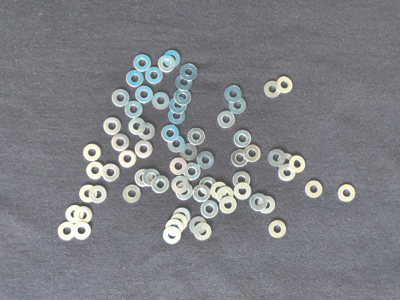circle: (303, 179, 324, 200), (338, 183, 358, 204), (56, 222, 77, 242), (200, 199, 220, 219), (89, 184, 109, 204), (72, 221, 92, 241), (187, 126, 206, 147), (79, 182, 98, 203), (65, 204, 84, 225), (150, 93, 172, 111), (242, 144, 262, 163), (193, 223, 213, 242), (111, 88, 130, 108), (125, 99, 144, 119), (104, 115, 123, 135), (111, 132, 130, 152), (118, 149, 137, 169), (86, 162, 106, 181), (276, 153, 297, 171), (224, 85, 243, 104), (169, 157, 188, 176), (175, 182, 194, 201), (167, 135, 186, 154), (161, 124, 180, 143), (174, 88, 193, 107), (123, 184, 142, 203), (157, 55, 176, 74), (163, 49, 182, 68), (135, 140, 154, 159), (84, 143, 103, 162), (259, 195, 277, 215), (167, 107, 187, 125), (175, 74, 195, 92), (180, 63, 200, 81), (134, 53, 152, 73), (128, 117, 146, 137), (169, 97, 190, 114), (234, 129, 252, 148), (231, 149, 249, 168), (269, 220, 287, 239), (234, 183, 252, 202), (190, 216, 209, 234), (183, 163, 202, 181), (171, 176, 190, 194), (163, 227, 182, 245), (165, 219, 184, 237), (134, 169, 152, 188), (135, 86, 154, 104), (126, 70, 144, 89), (145, 66, 163, 85), (102, 163, 120, 182), (268, 148, 285, 168), (169, 214, 189, 231), (74, 206, 94, 223), (229, 97, 247, 115), (250, 193, 268, 211), (233, 171, 251, 189), (219, 197, 237, 215), (216, 186, 234, 204), (210, 181, 228, 199), (198, 152, 216, 170), (289, 155, 306, 174), (278, 165, 297, 182), (217, 111, 236, 128), (200, 177, 217, 196), (173, 207, 192, 224), (152, 176, 169, 195), (277, 75, 293, 95), (144, 167, 160, 187), (180, 144, 198, 161), (139, 122, 156, 140), (264, 82, 283, 98), (194, 184, 210, 203)
